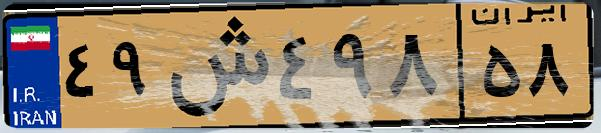4: (270, 28, 330, 110), (57, 26, 110, 100)
5: (475, 38, 525, 113)
8: (385, 28, 445, 110), (525, 38, 570, 115)
9: (330, 28, 385, 110), (110, 28, 158, 98)
ش: (158, 12, 270, 120)
